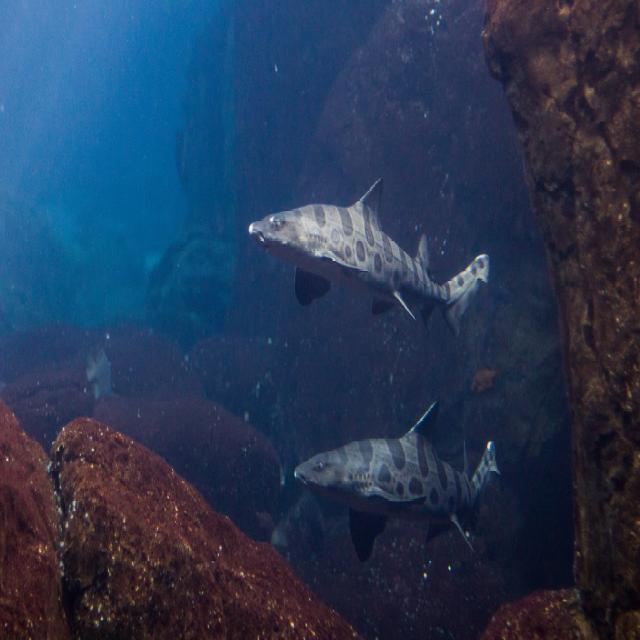Shark: (252, 162, 474, 348), (293, 415, 499, 556)
